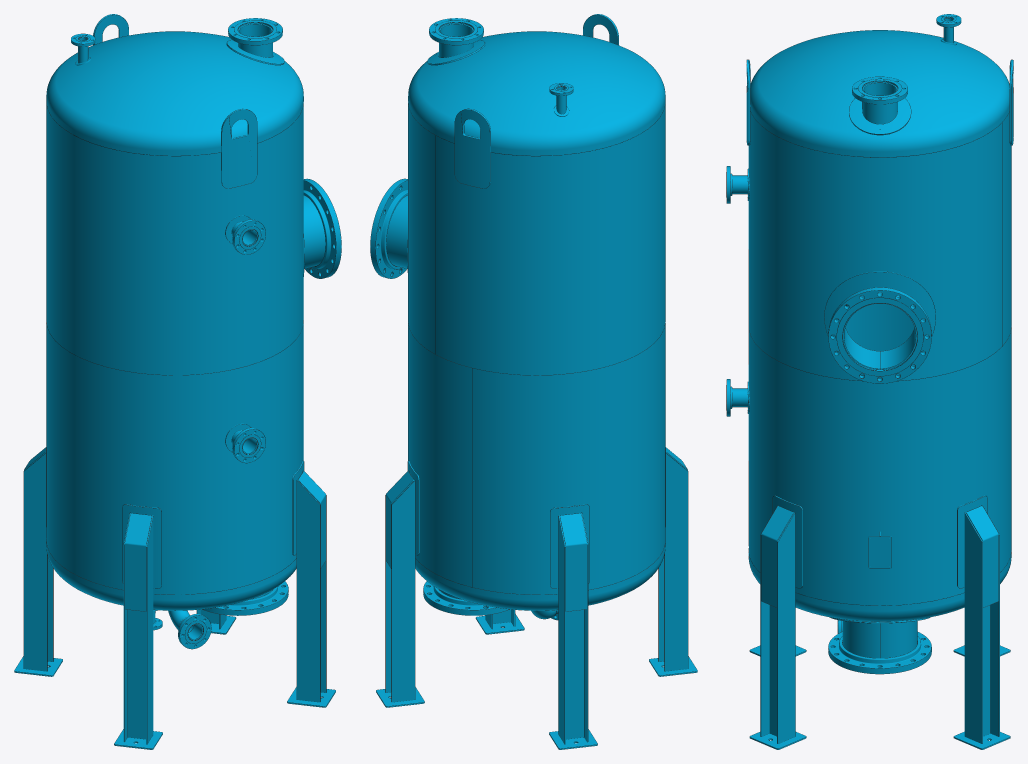
The model's file is GCTD63.glb.
The picture shows the model from 3 angles, left to right: view 1: azimuth 30°, elevation 25°; view 2: azimuth 150°, elevation 25°; view 3: azimuth 270°, elevation 25°; orthographic projection. The views are drawn at different scales.
Visible parts, largest first — view 1: GCTD63 Cuerpo-2, GCTD63 Cuerpo-1, Tapa Toriesferica D63-3, GCTD63 A, aristas-mesh, Viga IPR 6X6 22,3KgM-1, Tapa Toriesferica D63-2, BRIDA SOLDABLE 18in 150 Lbs-1 (×2), GCTD63009-1, BRIDA SOLDABLE 4in 150 Lbs-1 (×2), Cuello D18 C5I16-1, edge_lines_black-mesh (+4 smaller); view 2: GCTD63 Cuerpo-2, GCTD63 Cuerpo-1, Tapa Toriesferica D63-3, GCTD63 A, aristas-mesh, Tapa Toriesferica D63-2, BRIDA SOLDABLE 18in 150 Lbs-1 (×2), GCTD63009-2, edge_lines_black-mesh, Cuello D18 C5I16-1, GCTD63 AMORTIGUADOR PATAS-6, BRIDA SOLDABLE 8in 150 Lbs-1 (+3 smaller); view 3: GCTD63 Cuerpo-1, GCTD63 Cuerpo-2, Tapa Toriesferica D63-3, GCTD63 A, aristas-mesh, Viga IPR 6X6 22,3KgM-1, BRIDA SOLDABLE 18in 150 Lbs-1 (×2), Cuello D18 C5I16-1 (×2), Tapa Toriesferica D63-2, GCTD63 Solapa EPH-1, GCTD63005-5, GCTD63 Solapa Niple D8 superior-1 (+4 smaller).
Part boxes in pixels (bbox=[...]): GCTD63 Cuerpo-2: bbox=[46, 105, 303, 375]; GCTD63 Cuerpo-1: bbox=[46, 324, 303, 594]; Tapa Toriesferica D63-3: bbox=[46, 31, 303, 155]; GCTD63 A: bbox=[14, 447, 325, 749]; aristas-mesh: bbox=[14, 14, 341, 749]; Viga IPR 6X6 22,3KgM-1: bbox=[297, 471, 325, 702]; Tapa Toriesferica D63-2: bbox=[46, 544, 296, 610]; BRIDA SOLDABLE 18in 150 Lbs-1 (×2): bbox=[203, 179, 341, 615]; GCTD63009-1: bbox=[221, 109, 256, 188]; BRIDA SOLDABLE 4in 150 Lbs-1 (×2): bbox=[178, 428, 265, 648]; Cuello D18 C5I16-1: bbox=[303, 195, 325, 268]; edge_lines_black-mesh: bbox=[24, 21, 341, 744]; GCTD63 Cuerpo-2: bbox=[408, 105, 665, 375]; GCTD63 Cuerpo-1: bbox=[408, 324, 665, 594]; Tapa Toriesferica D63-3: bbox=[408, 31, 665, 155]; GCTD63 A: bbox=[376, 447, 697, 749]; aristas-mesh: bbox=[370, 14, 697, 749]; Tapa Toriesferica D63-2: bbox=[415, 544, 665, 610]; BRIDA SOLDABLE 18in 150 Lbs-1 (×2): bbox=[370, 179, 508, 615]; GCTD63009-2: bbox=[455, 109, 490, 188]; edge_lines_black-mesh: bbox=[370, 24, 693, 744]; Cuello D18 C5I16-1: bbox=[386, 195, 407, 268]; GCTD63 AMORTIGUADOR PATAS-6: bbox=[550, 504, 589, 588]; BRIDA SOLDABLE 8in 150 Lbs-1: bbox=[429, 18, 483, 44]; GCTD63 Cuerpo-1: bbox=[748, 303, 1011, 605]; GCTD63 Cuerpo-2: bbox=[748, 111, 1011, 380]; Tapa Toriesferica D63-3: bbox=[750, 30, 1009, 157]; GCTD63 A: bbox=[749, 495, 1010, 749]; aristas-mesh: bbox=[726, 14, 1013, 749]; Viga IPR 6X6 22,3KgM-1: bbox=[760, 505, 795, 743]; BRIDA SOLDABLE 18in 150 Lbs-1 (×2): bbox=[828, 287, 931, 673]; Cuello D18 C5I16-1 (×2): bbox=[842, 292, 917, 658]; Tapa Toriesferica D63-2: bbox=[748, 553, 1011, 621]; GCTD63 Solapa EPH-1: bbox=[824, 271, 935, 351]; GCTD63005-5: bbox=[966, 506, 998, 607]; GCTD63 Solapa Niple D8 superior-1: bbox=[849, 98, 910, 134].
Bounding box in the file's own units: 1.84 × 4.4 × 1.77.
